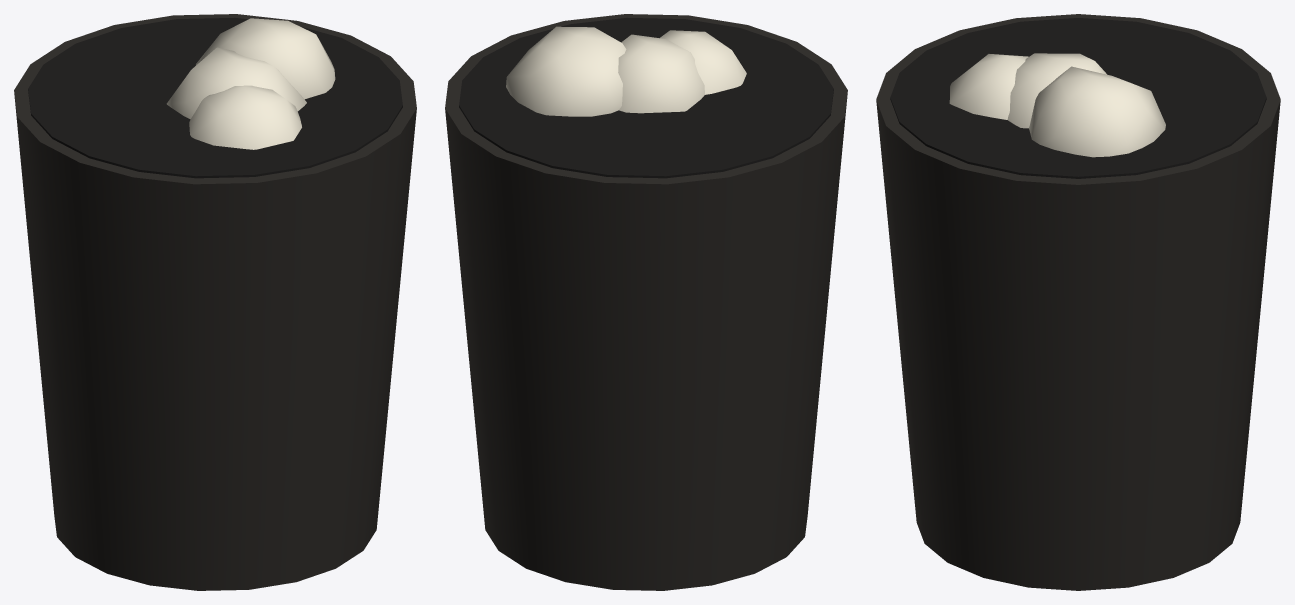
The model's file is SM_80s_Wastebasket.glb.
3 renders of one model, left to right at view 1: azimuth 30°, elevation 25°; view 2: azimuth 150°, elevation 25°; view 3: azimuth 270°, elevation 25°, orthographic.
Visible parts, largest first — view 1: SM_80s_Wastebasket; view 2: SM_80s_Wastebasket; view 3: SM_80s_Wastebasket.
Part boxes in pixels (x1=…): SM_80s_Wastebasket: x1=14, y1=14, x2=416, y2=590; SM_80s_Wastebasket: x1=445, y1=14, x2=847, y2=590; SM_80s_Wastebasket: x1=876, y1=14, x2=1280, y2=590.
Size of the model in its own units: 0.3432 by 0.4461 by 0.3432.
